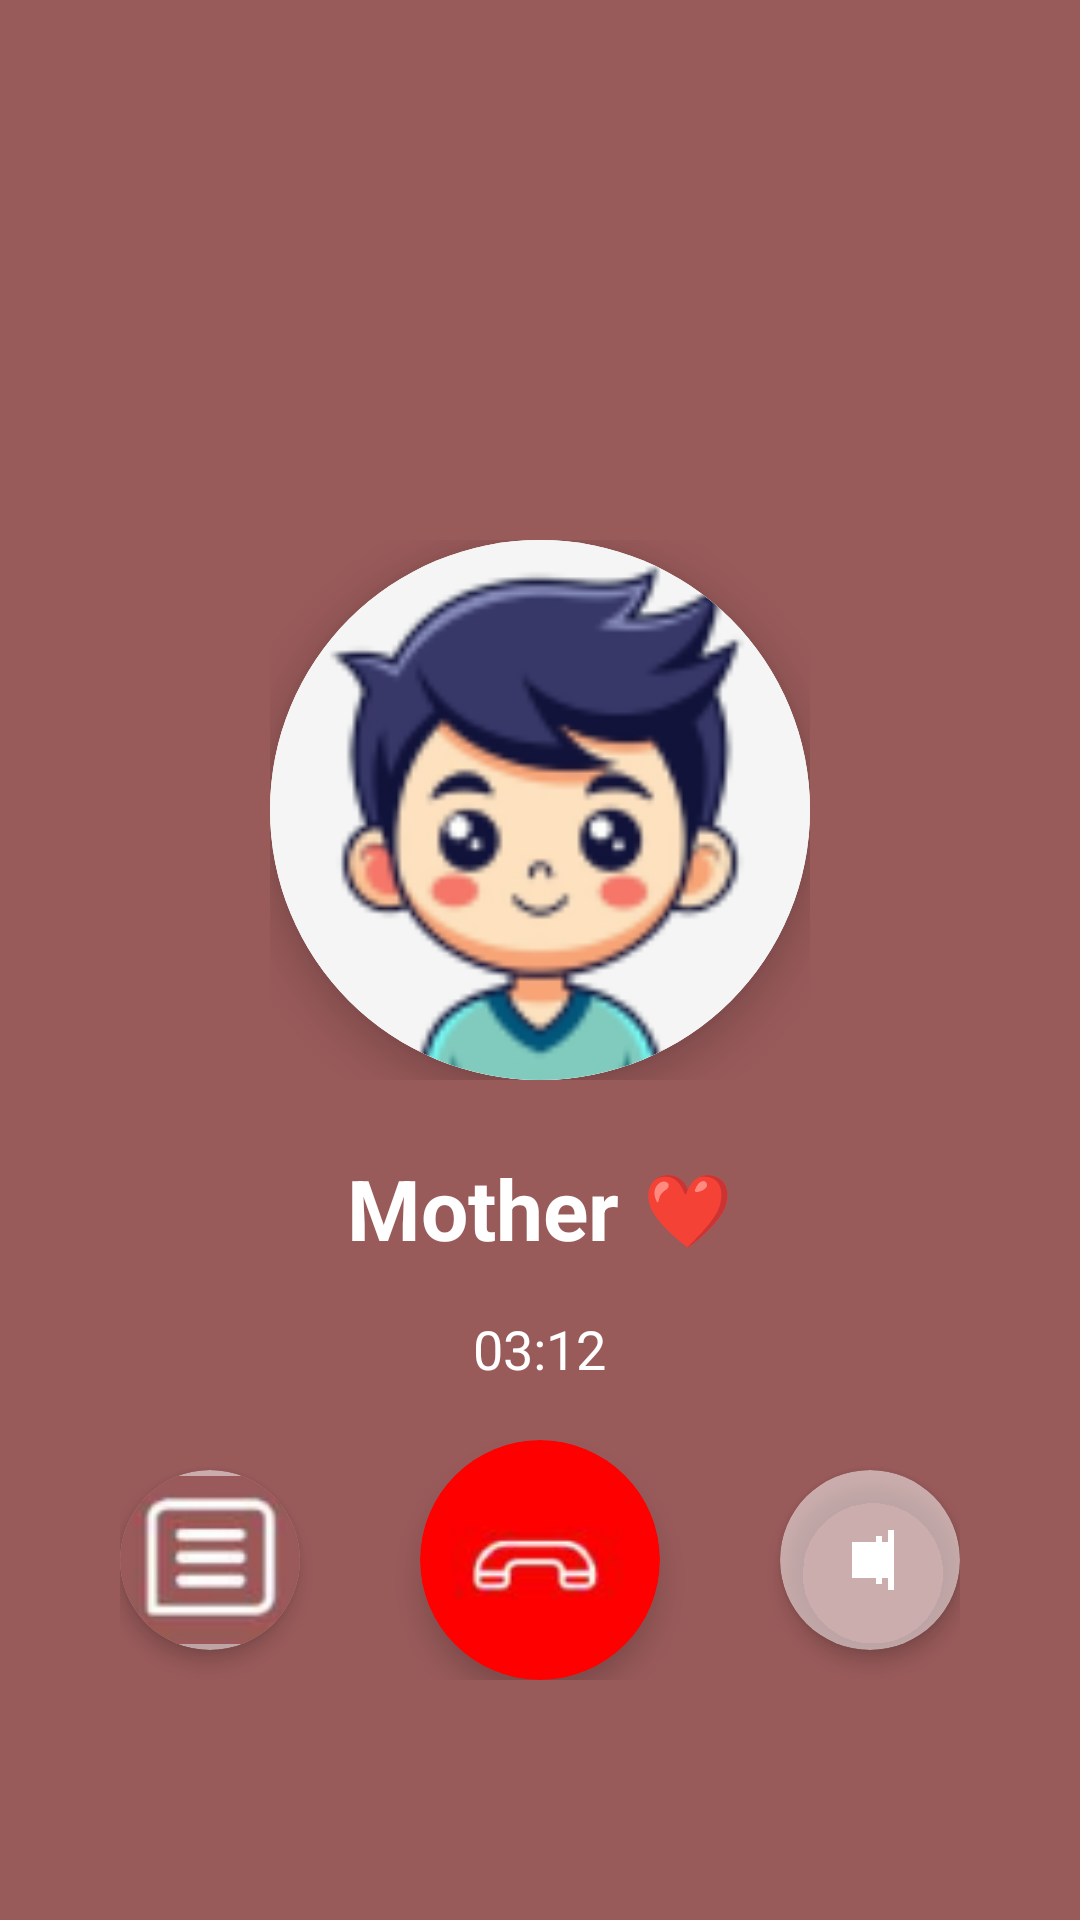

Locate icon controls on the screen. Image size 1080px x 1920px, boxes as (x1, y1, x2, y2).
call: (457, 1532, 599, 1596)
